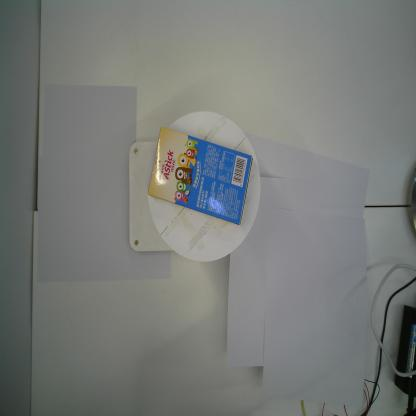Dessert: (148, 126, 252, 226)
